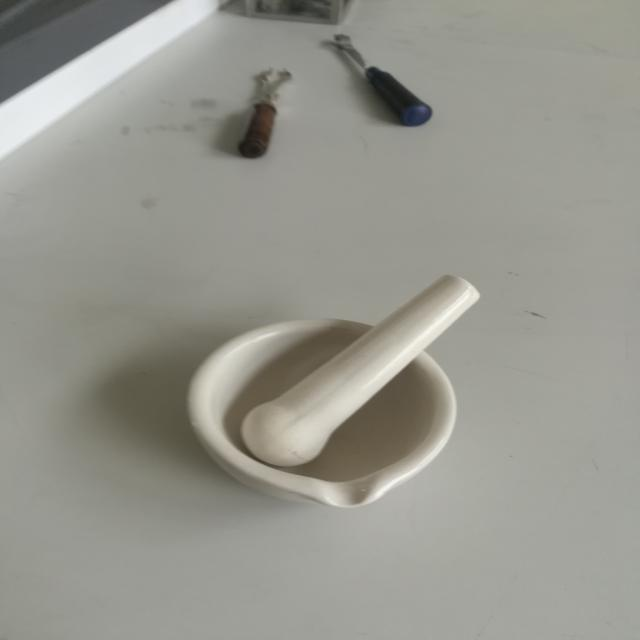Porcelain_Mortar Pestle: (190, 270, 521, 541)
